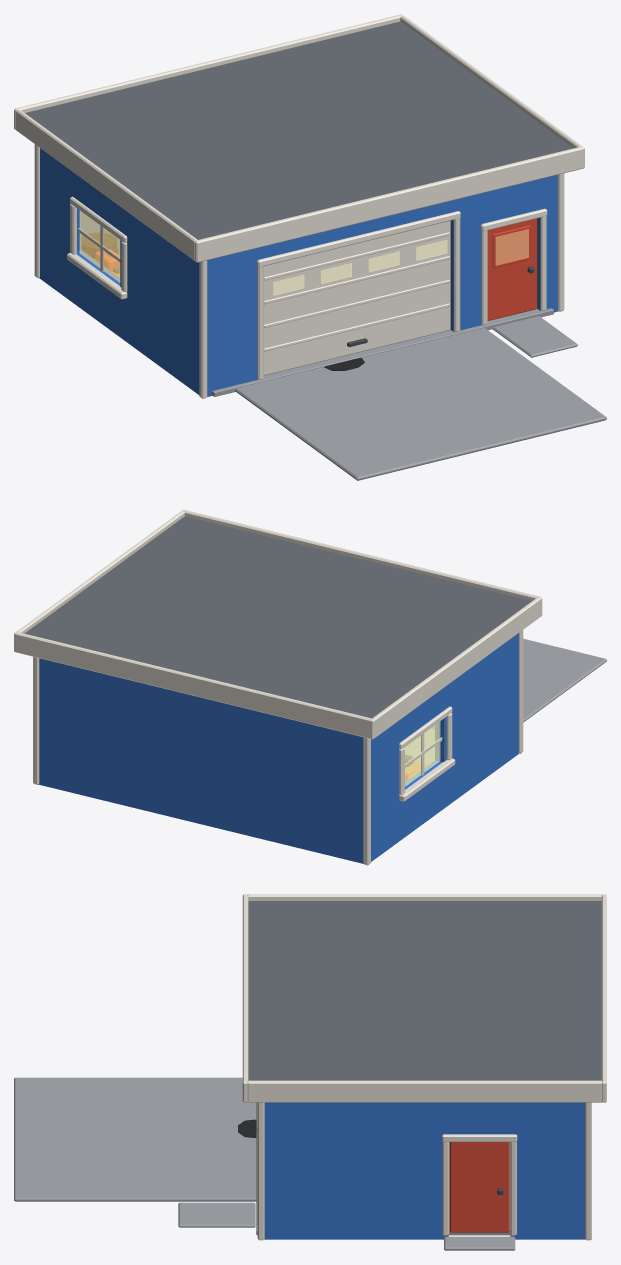
Rendered from detached-garage.glb.
3 renders of one model, top to bottom at view 1: azimuth 30°, elevation 25°; view 2: azimuth 150°, elevation 25°; view 3: azimuth 270°, elevation 25°, orthographic. The views are drawn at different scales.
Visible parts, largest first — view 1: Roof_Slab, Driveway_Apron, RollUpDoor, Wall_Left, Wall_Front, Roof_Fascia_Front, Roof_Fascia_Left, FrontDoor, Roof_Fascia_Back, Floor_Slab, Path_FrontDoor, Frame_RollUp_Head (+17 smaller); view 2: Roof_Slab, Wall_Back, Wall_Left, Roof_Fascia_Back, Roof_Fascia_Left, Driveway_Apron, Roof_Fascia_Front, Roof_Fascia_Right, Window_Glass, Trim_Corner_LB, Trim_Corner_RB, Trim_Corner_LF (+3 smaller); view 3: Roof_Slab, Wall_Right, Driveway_Apron, Roof_Fascia_Right, SideDoor, Roof_Fascia_Left, Path_FrontDoor, Roof_Fascia_Front, Roof_Fascia_Back, Trim_Corner_RF, Wall_Front, Step_SideDoor (+6 smaller).
Boxes of the visible parts, x1,y1,x2,y2 form: Roof_Slab: (25,21,573,239); Driveway_Apron: (235,328,606,480); RollUpDoor: (264,221,450,375); Wall_Left: (43,150,197,393); Wall_Front: (197,175,558,396); Roof_Fascia_Front: (194,146,584,262); Roof_Fascia_Left: (16,109,197,260); FrontDoor: (487,218,537,320); Roof_Fascia_Back: (14,14,403,129); Floor_Slab: (212,308,553,396); Path_FrontDoor: (493,316,577,357); Frame_RollUp_Head: (257,211,460,266); Roof_Slab: (25,516,531,718); Wall_Back: (38,658,372,863); Wall_Left: (372,636,515,860); Roof_Fascia_Back: (14,632,375,739); Roof_Fascia_Left: (372,597,540,737); Driveway_Apron: (523,638,606,722); Roof_Fascia_Front: (182,509,542,616); Roof_Fascia_Right: (16,511,184,633); Window_Glass: (404,721,440,786); Trim_Corner_LB: (363,737,370,865); Trim_Corner_RB: (33,656,39,784); Trim_Corner_LF: (518,630,523,753); Roof_Slab: (248,901,601,1080); Wall_Right: (271,1102,578,1239); Driveway_Apron: (14,1077,256,1201); Roof_Fascia_Right: (247,1080,602,1102); SideDoor: (449,1142,509,1232); Roof_Fascia_Left: (247,894,602,900); Path_FrontDoor: (178,1202,255,1227); Roof_Fascia_Front: (242,894,248,1102); Roof_Fascia_Back: (601,894,606,1102); Trim_Corner_RF: (257,1102,264,1240); Wall_Front: (264,1102,271,1239); Step_SideDoor: (444,1236,515,1250).
Size of the model in its own units: 33.3 by 13.3 by 43.3.
